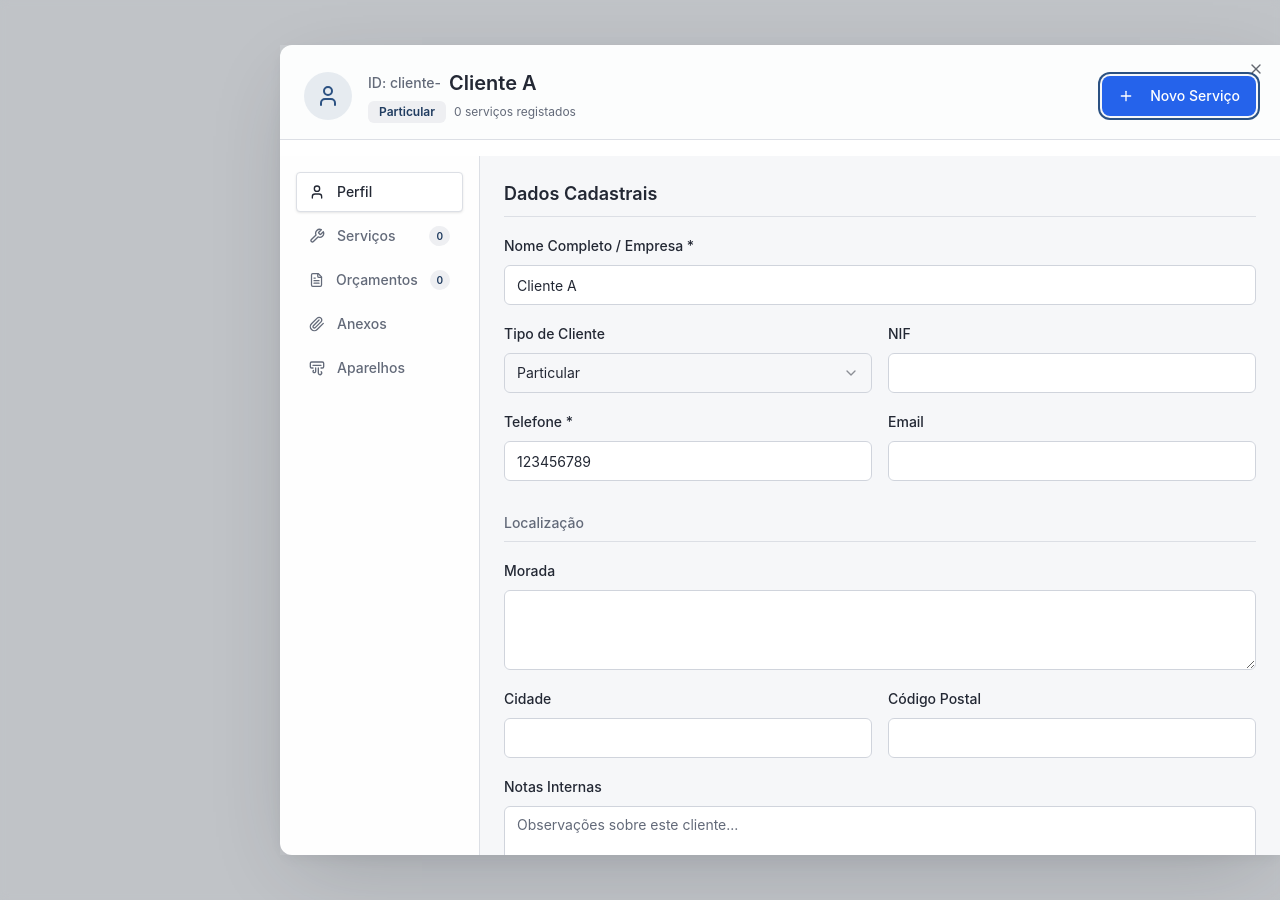
Test case: Edição de aparelhos por cliente › descarta a edição ao fechar e voltar à ficha do mesmo cliente
The image size is (1280, 900).
Later steps or results of the test are not shown.
Press the mouse on the tab "Aparelhos": (380, 368) [296,348,463,388]
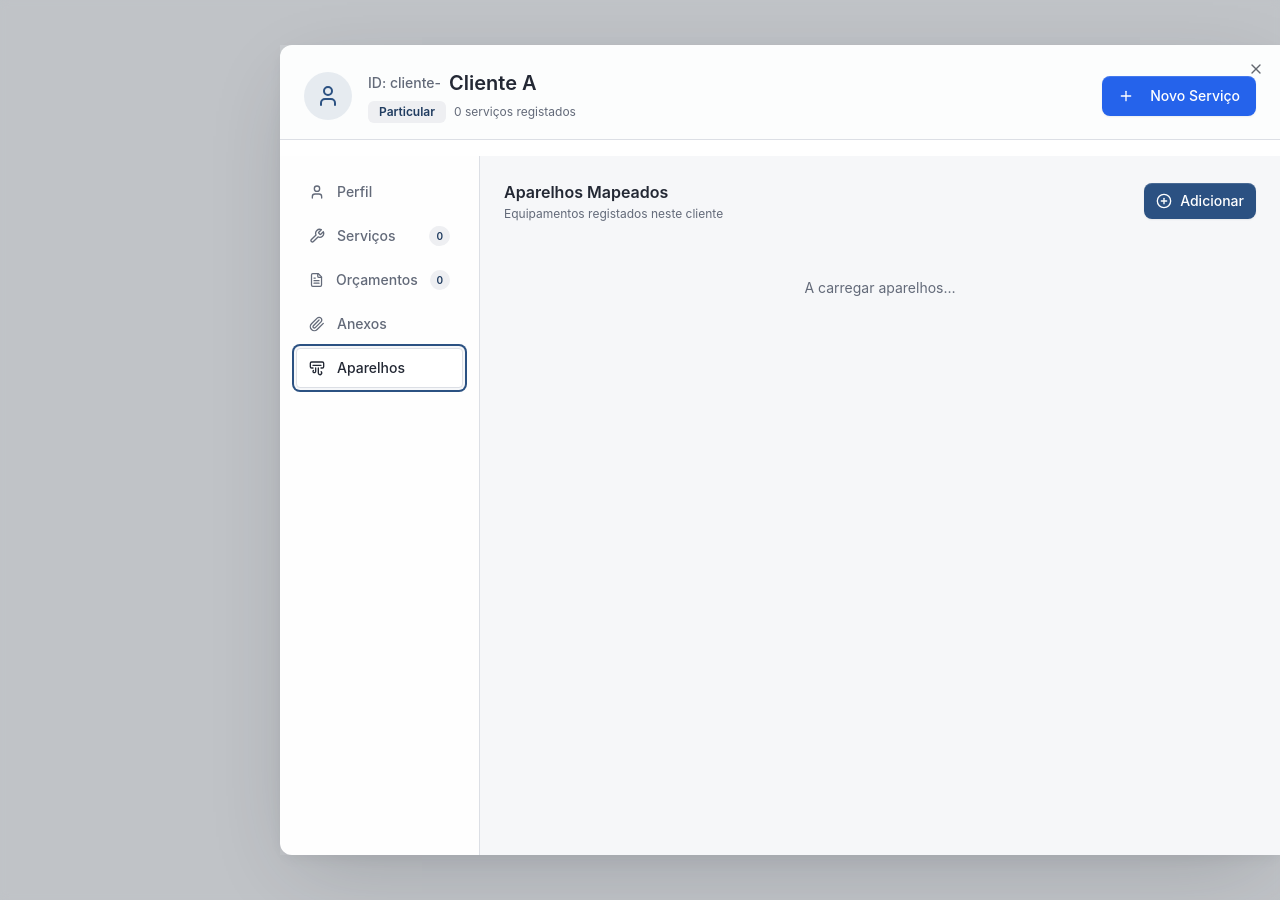
Click the tab "Aparelhos": click(380, 368) [296,348,463,388]
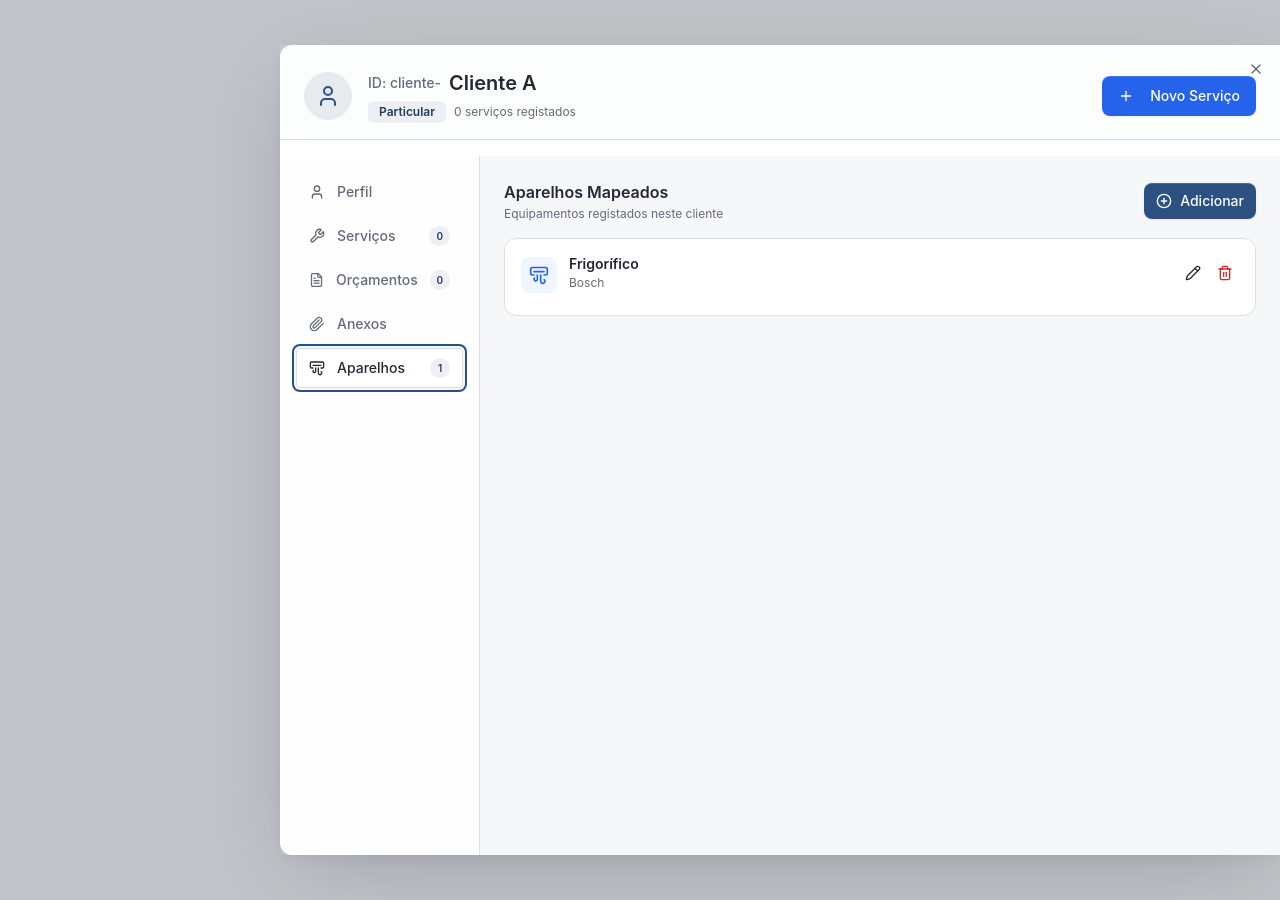
Click the button named "Editar aparelho Frigorífico": click(1193, 273) [1179,255,1207,291]
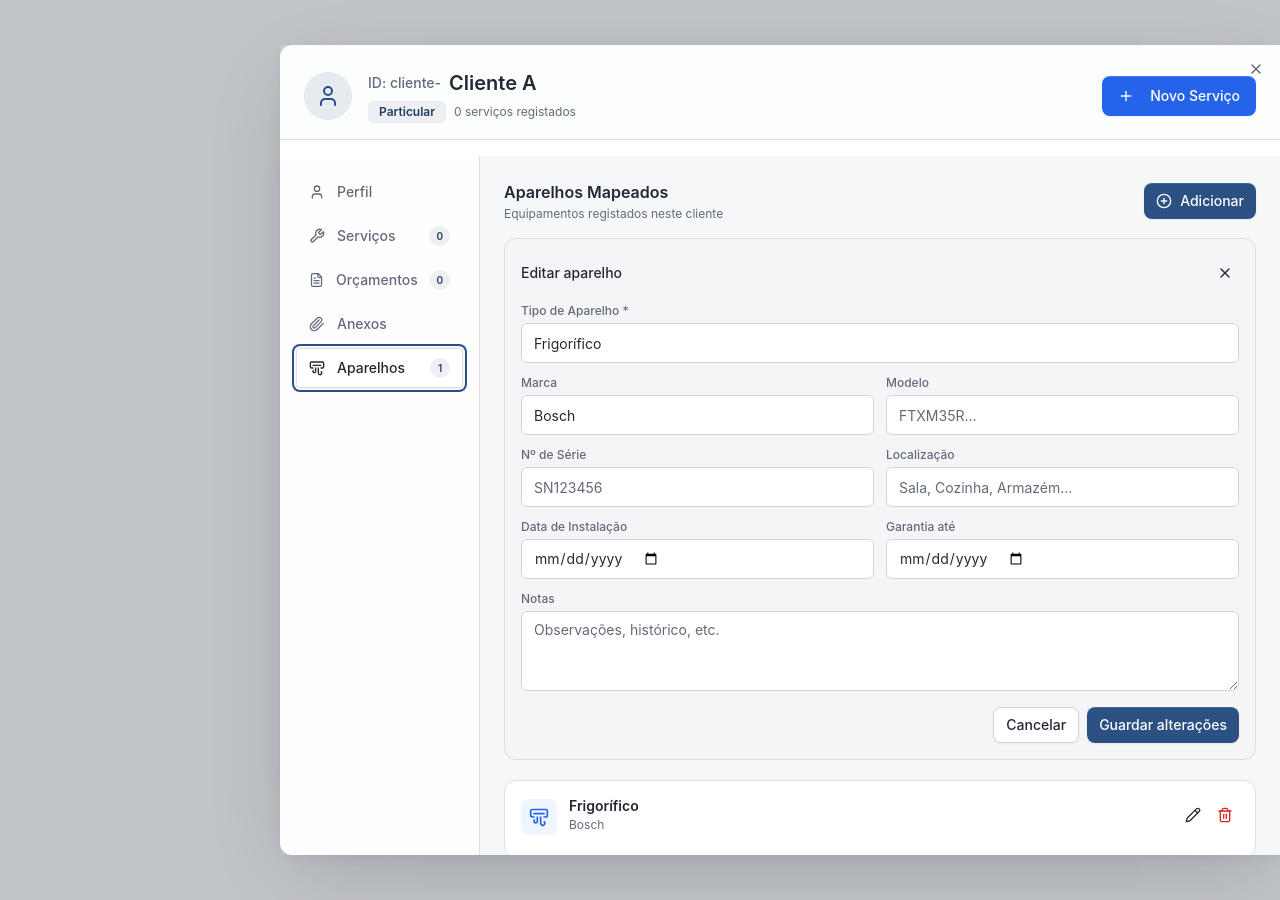
Expected: the field showing "Bosch" below "Marca" is shown, [521,395,874,435]
